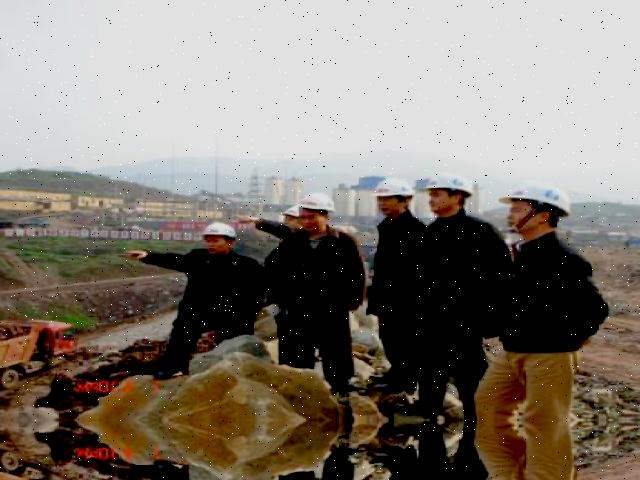Helmet: (496, 177, 580, 219), (422, 169, 481, 199), (373, 174, 421, 204), (296, 188, 340, 216), (200, 218, 242, 243)
